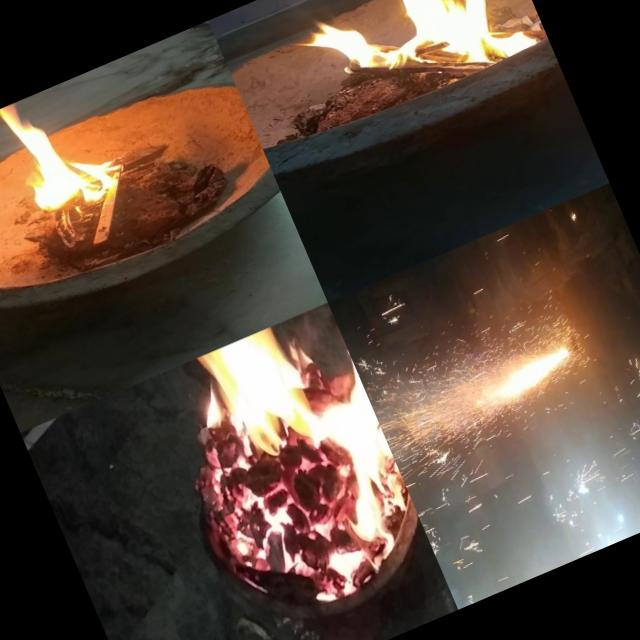fire: (178, 302, 440, 629), (276, 0, 548, 133), (164, 417, 276, 610), (0, 72, 133, 231), (416, 486, 504, 608)
